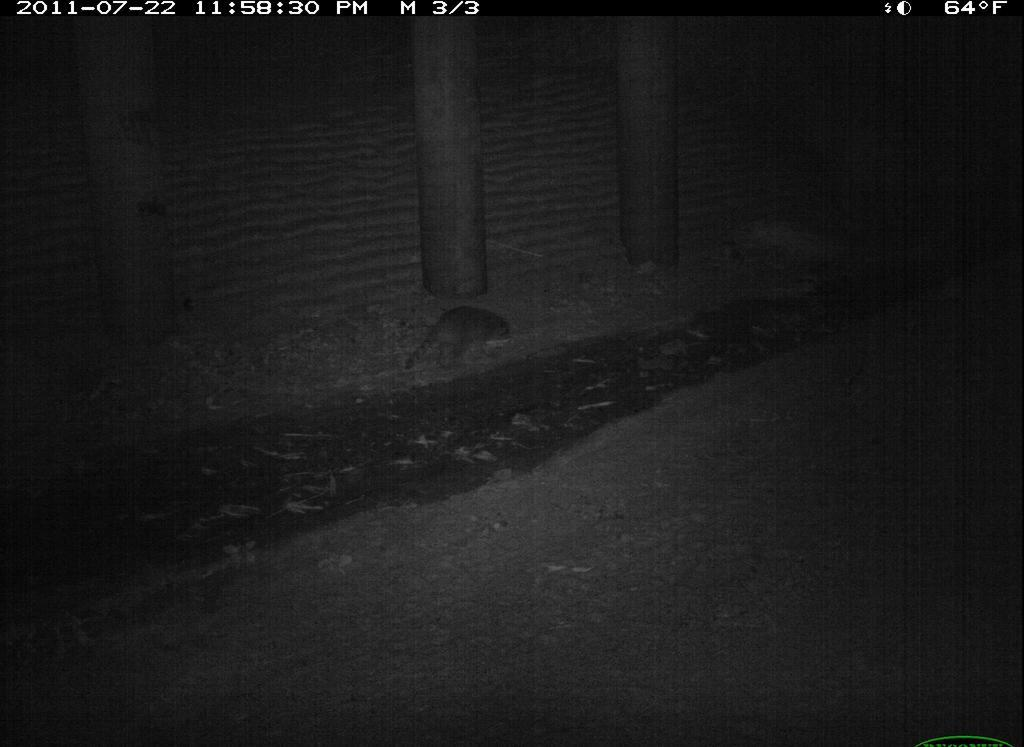raccoon: (794, 597, 1024, 747)
